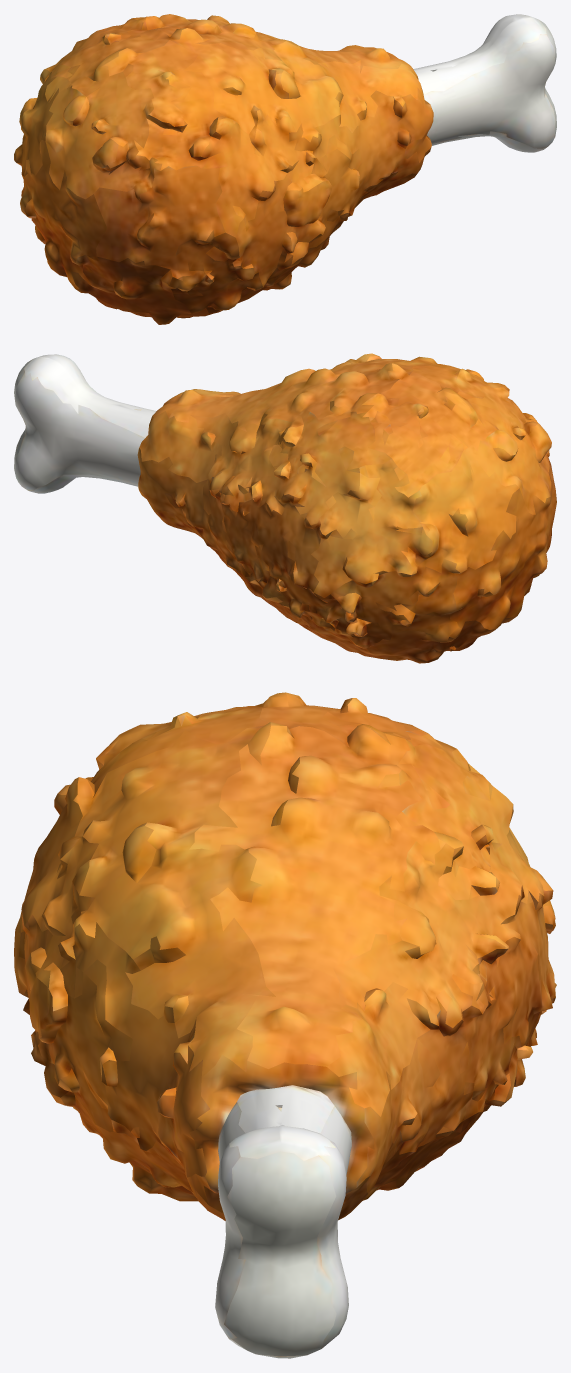
Rendered from naiwa_drumstick.glb.
3 renders of one model, top to bottom at view 1: azimuth 30°, elevation 25°; view 2: azimuth 150°, elevation 25°; view 3: azimuth 270°, elevation 25°, orthographic. The views are drawn at different scales.
Visible parts, largest first — view 1: geometry_0; view 2: geometry_0; view 3: geometry_0.
Part boxes in pixels (x1=…): geometry_0: x1=14, y1=14, x2=556, y2=324; geometry_0: x1=14, y1=353, x2=556, y2=663; geometry_0: x1=14, y1=692, x2=556, y2=1358.
Bounding box in the file's own units: 0.18 × 0.0948 × 0.0995.
Materials: 1 (1 with a texture image).
